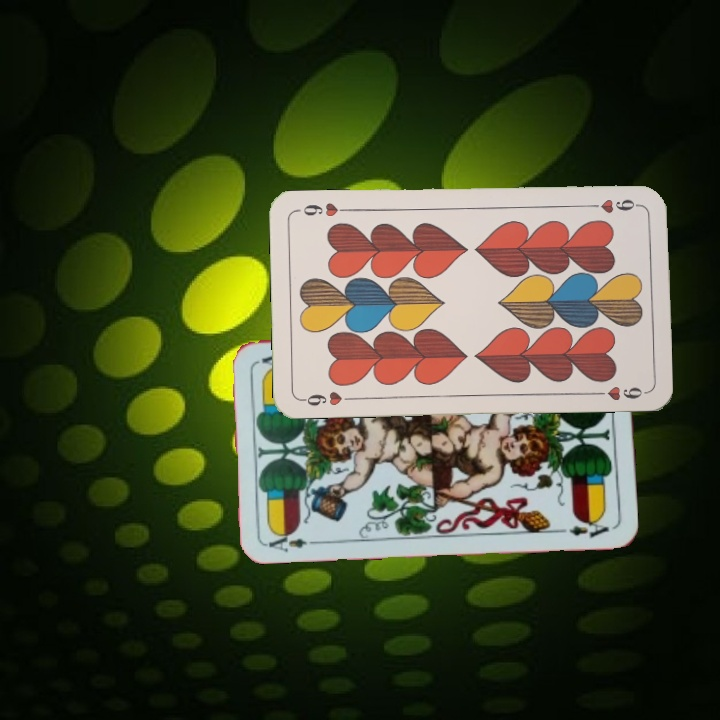EA: (264, 527, 323, 555)
H9: (297, 387, 357, 409), (584, 195, 643, 216)
